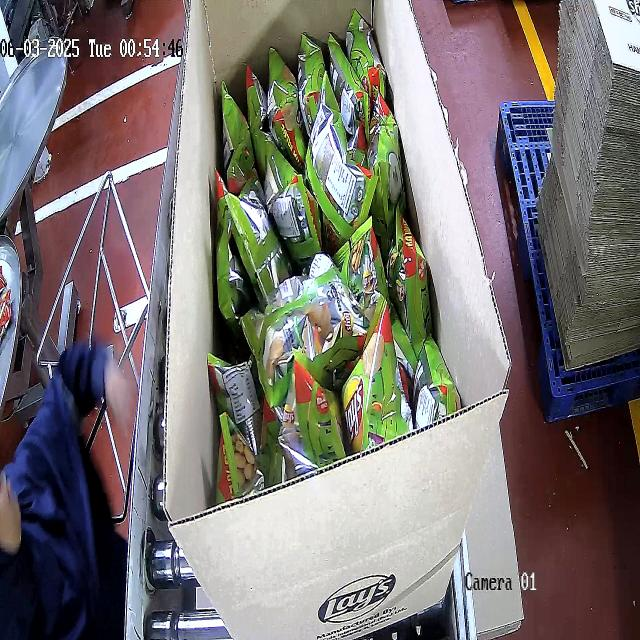YOGURT_HERB: (213, 11, 459, 492)
